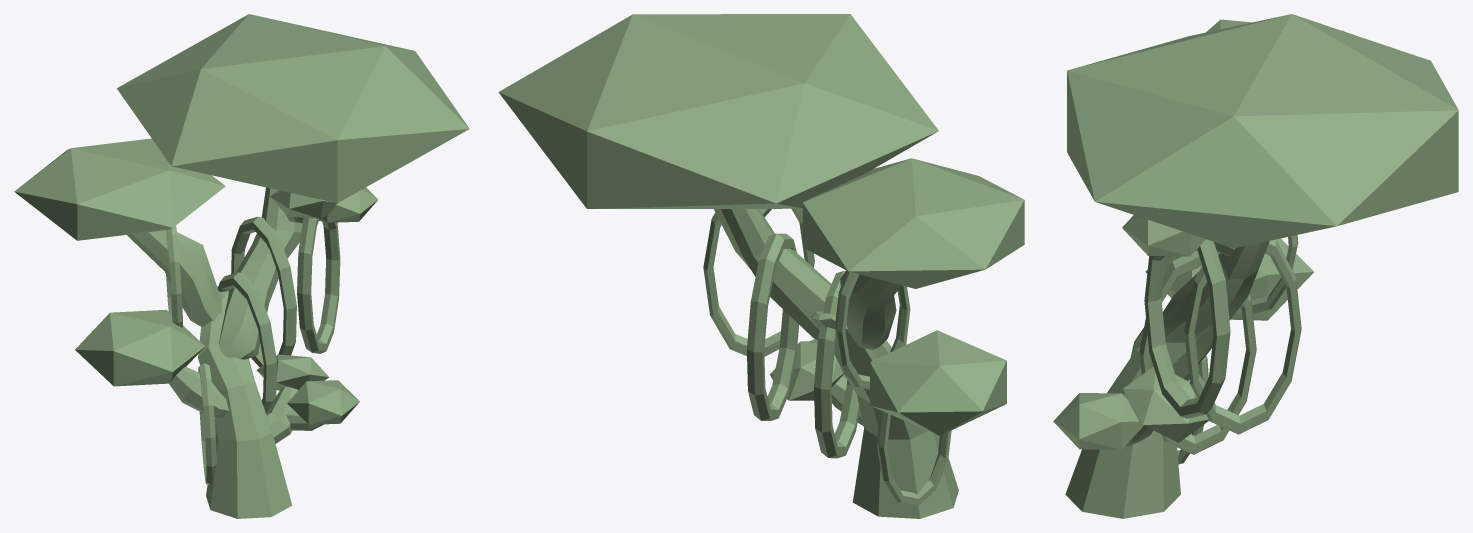
File: a_z3_TreeL.fbx
3 renders of one model, left to right at view 1: azimuth 30°, elevation 25°; view 2: azimuth 150°, elevation 25°; view 3: azimuth 270°, elevation 25°, orthographic. The views are drawn at different scales.
Visible parts, largest first — view 1: a_z3_TreeL; view 2: a_z3_TreeL; view 3: a_z3_TreeL.
Boxes of the visible parts, x1,y1,x2,y2 form: a_z3_TreeL: (14,14,469,518); a_z3_TreeL: (498,14,1024,518); a_z3_TreeL: (1053,14,1458,518).
Bounding box in the file's own units: 1629 × 1483 × 1109.
